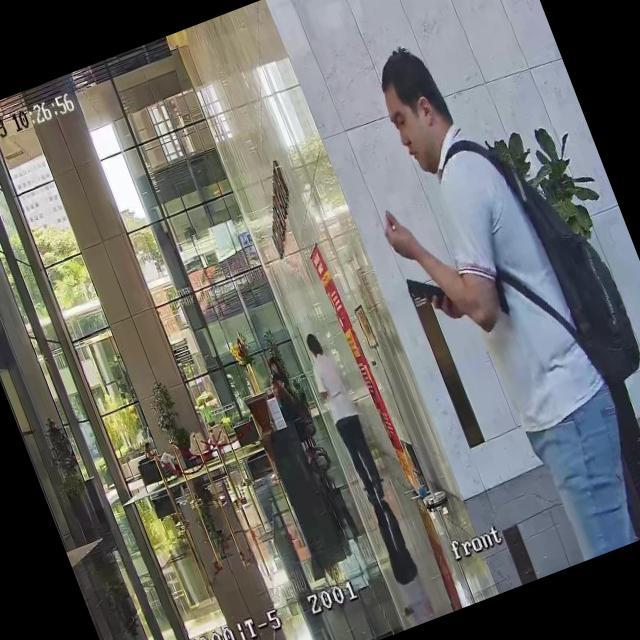person: (324, 20, 640, 579), (298, 326, 394, 517), (141, 432, 188, 484), (269, 375, 306, 433), (268, 354, 292, 390)
